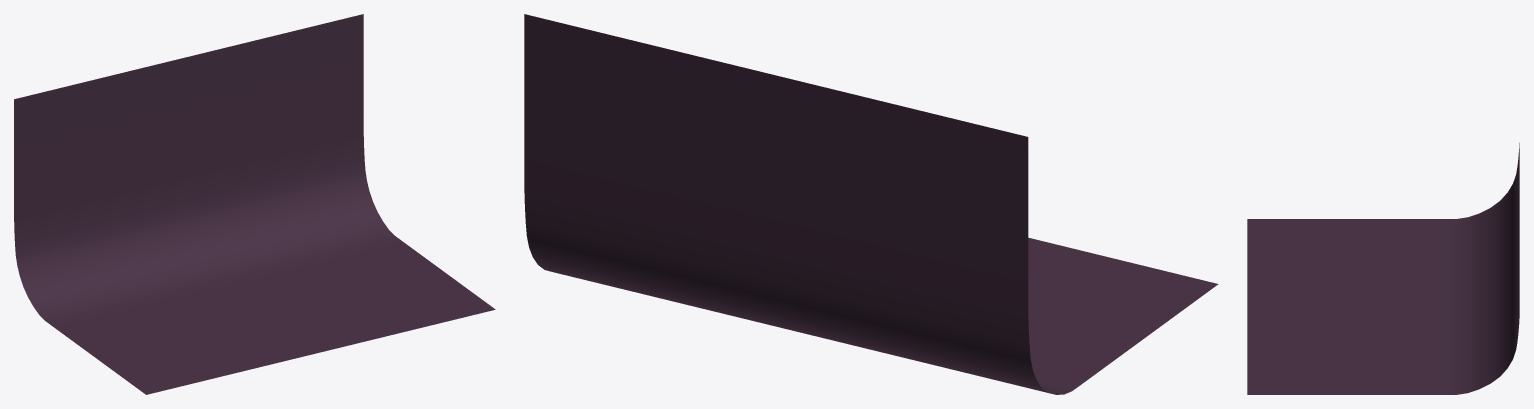
3 views of the same model, side by side, from view 1: azimuth 30°, elevation 25°; view 2: azimuth 150°, elevation 25°; view 3: azimuth 270°, elevation 25° (orthographic). The views are drawn at different scales.
Visible parts, largest first — view 1: BG; view 2: BG; view 3: BG.
Boxes of the visible parts, box(x1,y1,x2,y2) form: BG: box(14, 14, 495, 394); BG: box(524, 14, 1218, 394); BG: box(1247, 143, 1519, 394).
Size of the model in its own units: 826 by 449 by 541.
